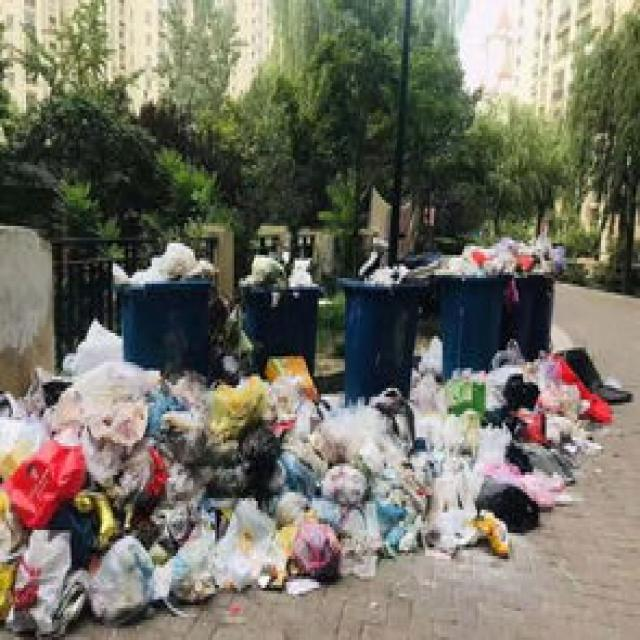garbage: (0, 316, 629, 637)
overflow: (109, 238, 219, 374), (336, 246, 423, 403), (430, 240, 512, 376), (237, 252, 321, 376), (497, 235, 562, 359)
